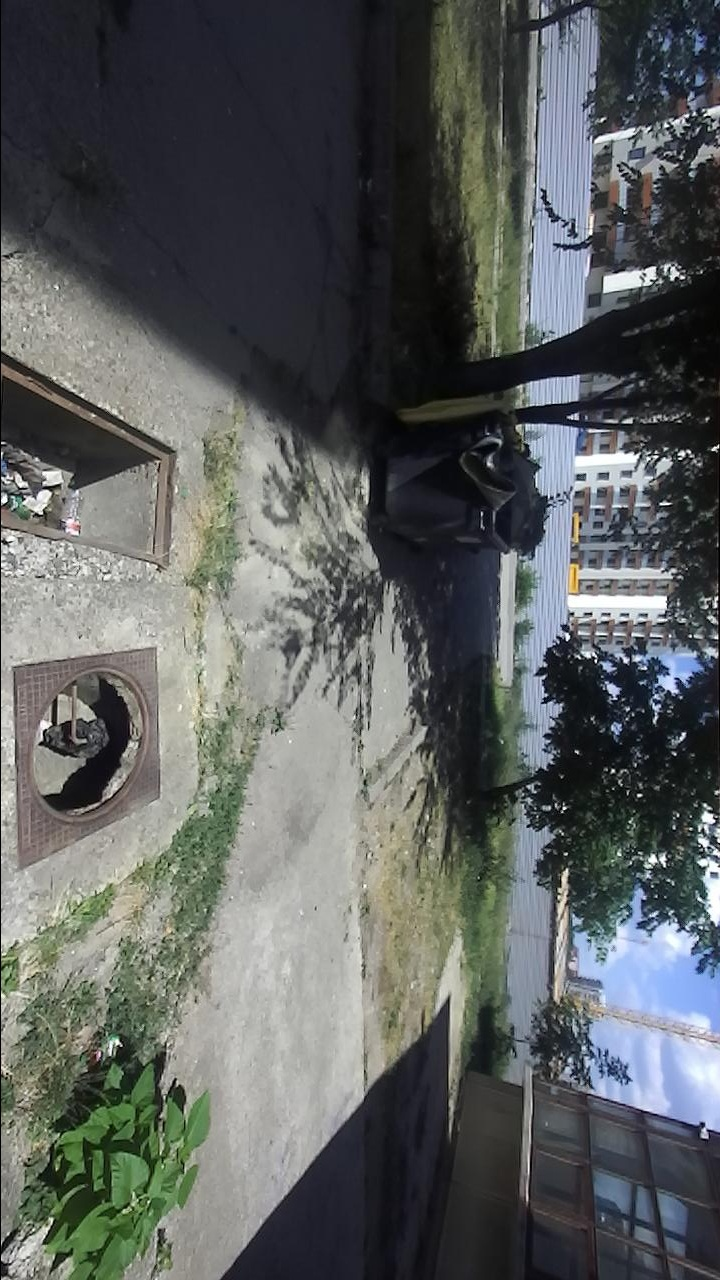drain: (1, 348, 179, 573), (30, 664, 154, 828)
